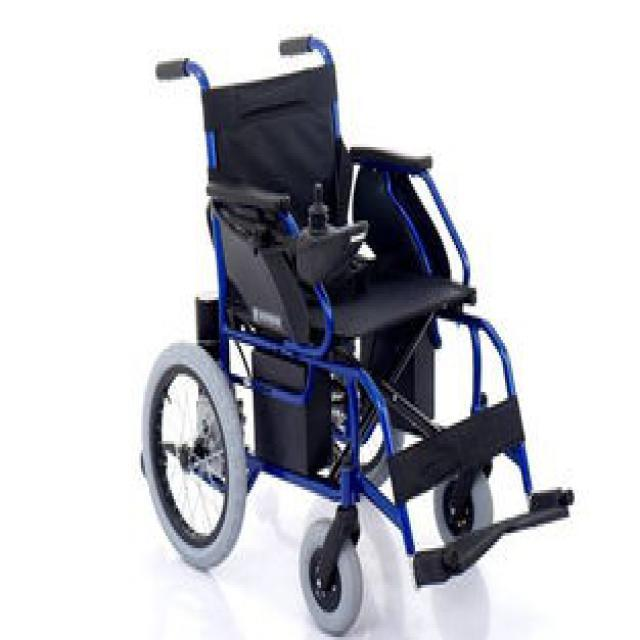wheelchair: (112, 18, 580, 637)
